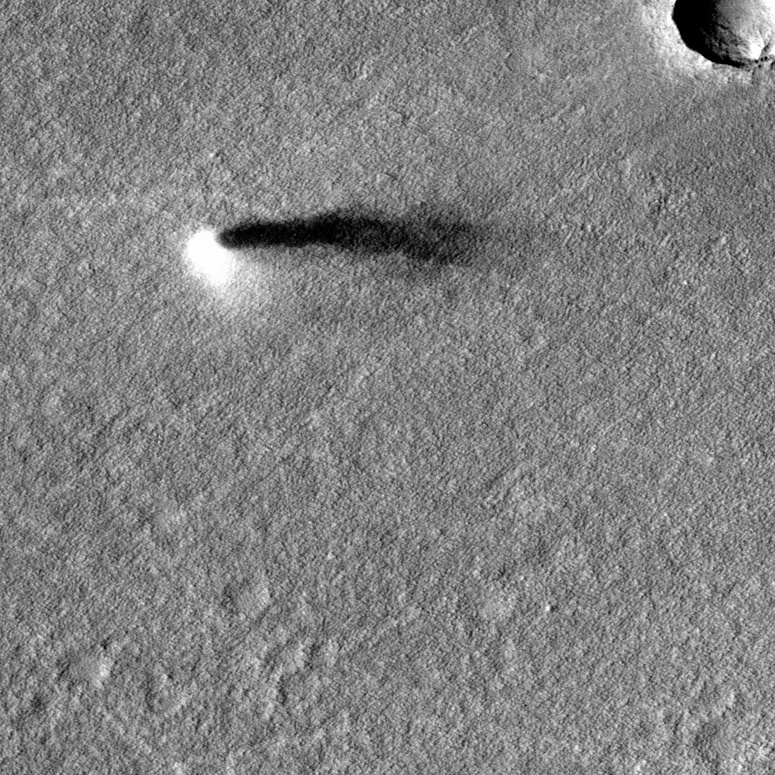dust_devil: (182, 198, 477, 289)
